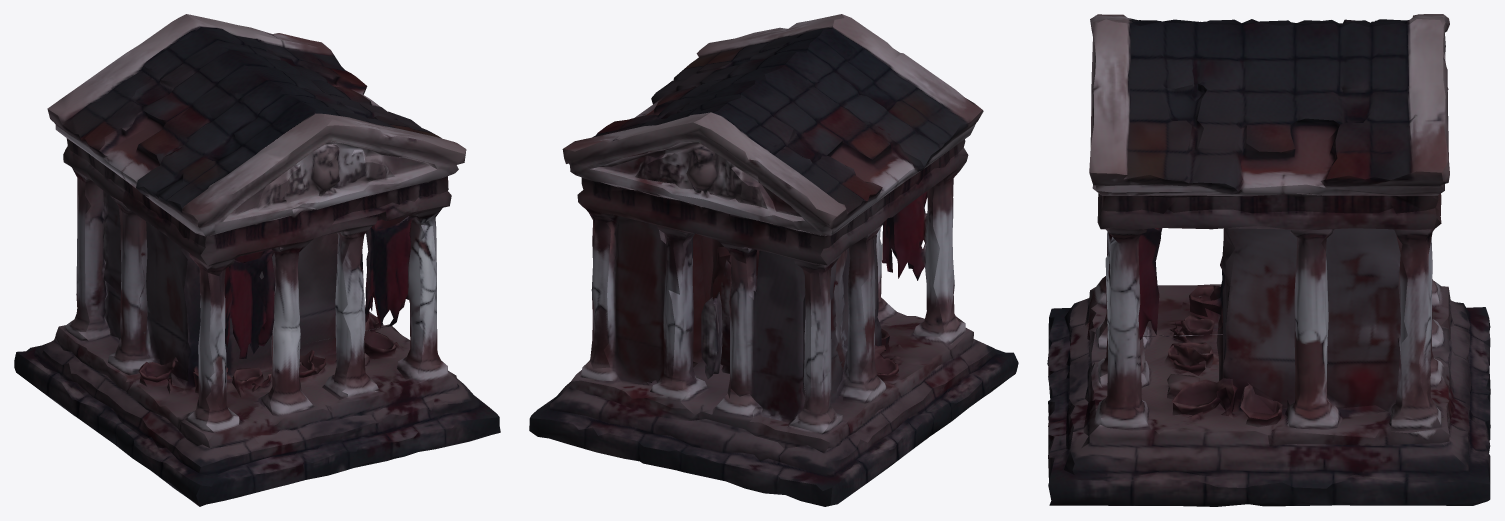
File: temple1_LOD2.glb
The picture shows the model from 3 angles, left to right: view 1: azimuth 30°, elevation 25°; view 2: azimuth 150°, elevation 25°; view 3: azimuth 270°, elevation 25°; orthographic projection. The views are drawn at different scales.
Bounding box in the file's own units: 0.9493 × 0.9991 × 0.9987.
1 material, 1 textured.
